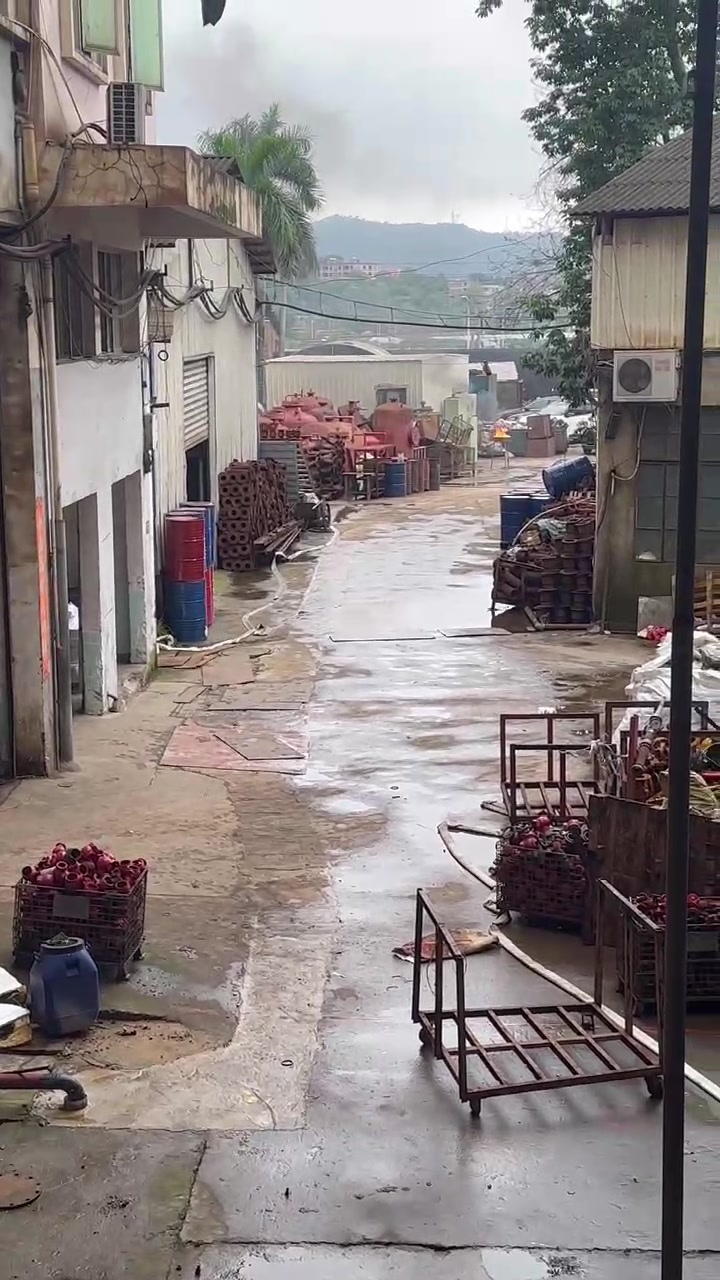fire: (493, 426, 510, 436)
